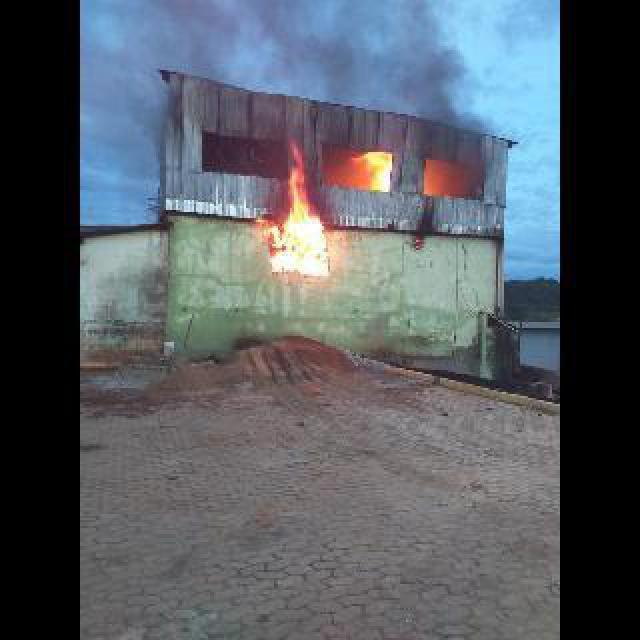fire: (94, 4, 400, 148), (398, 18, 494, 168), (254, 140, 332, 276), (346, 152, 394, 190)
